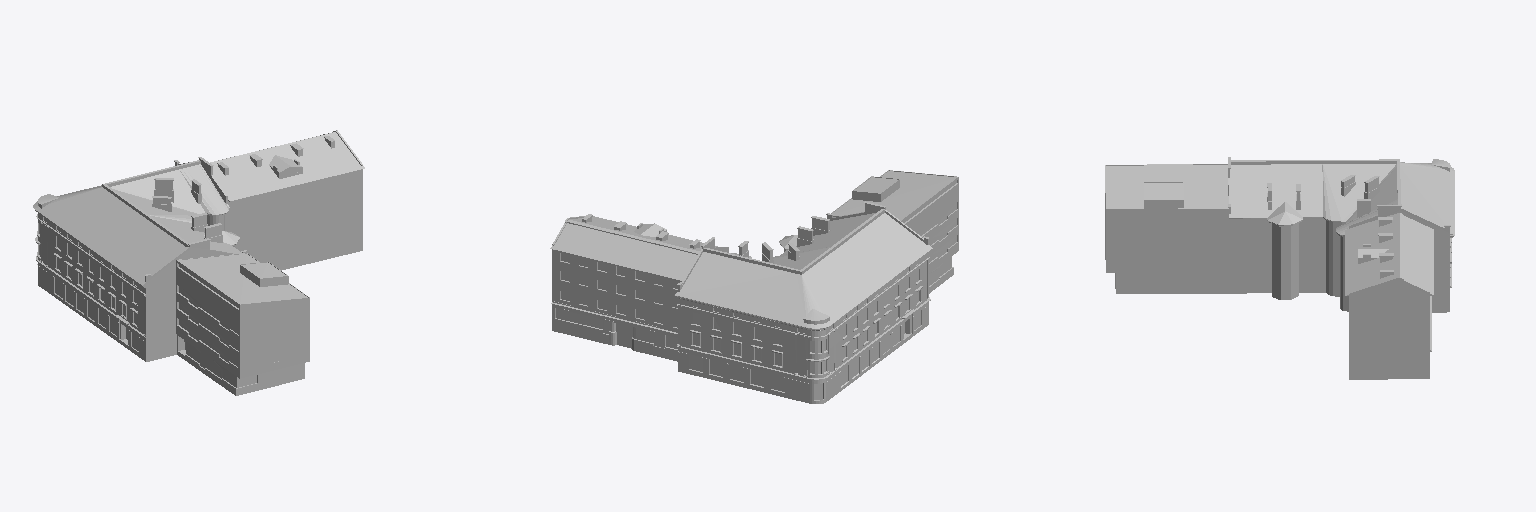
The model's file is MastersceneTrees_NoCityhall_NoSkydome_90degree_pieces_kortteli_5.obj.
3 renders of one model, left to right at view 1: azimuth 30°, elevation 25°; view 2: azimuth 150°, elevation 25°; view 3: azimuth 270°, elevation 25°, orthographic.
Visible parts, largest first — view 1: pakkahuoneenkatu_10; view 2: pakkahuoneenkatu_10; view 3: pakkahuoneenkatu_10.
Boxes of the visible parts, x1,y1,x2,y2 form: pakkahuoneenkatu_10: [33, 130, 364, 395]; pakkahuoneenkatu_10: [550, 170, 958, 403]; pakkahuoneenkatu_10: [1105, 157, 1454, 379].
Size of the model in its own units: 49.12 by 18.05 by 52.42.